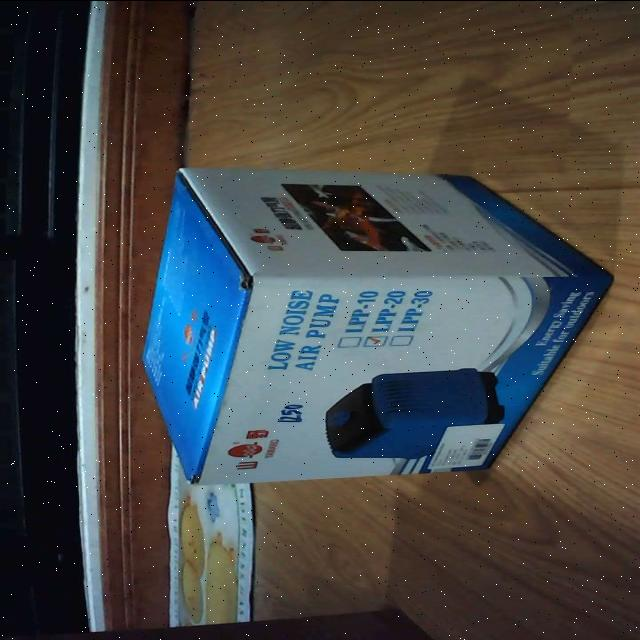YAMANO_LPP_20: (110, 148, 620, 488)
